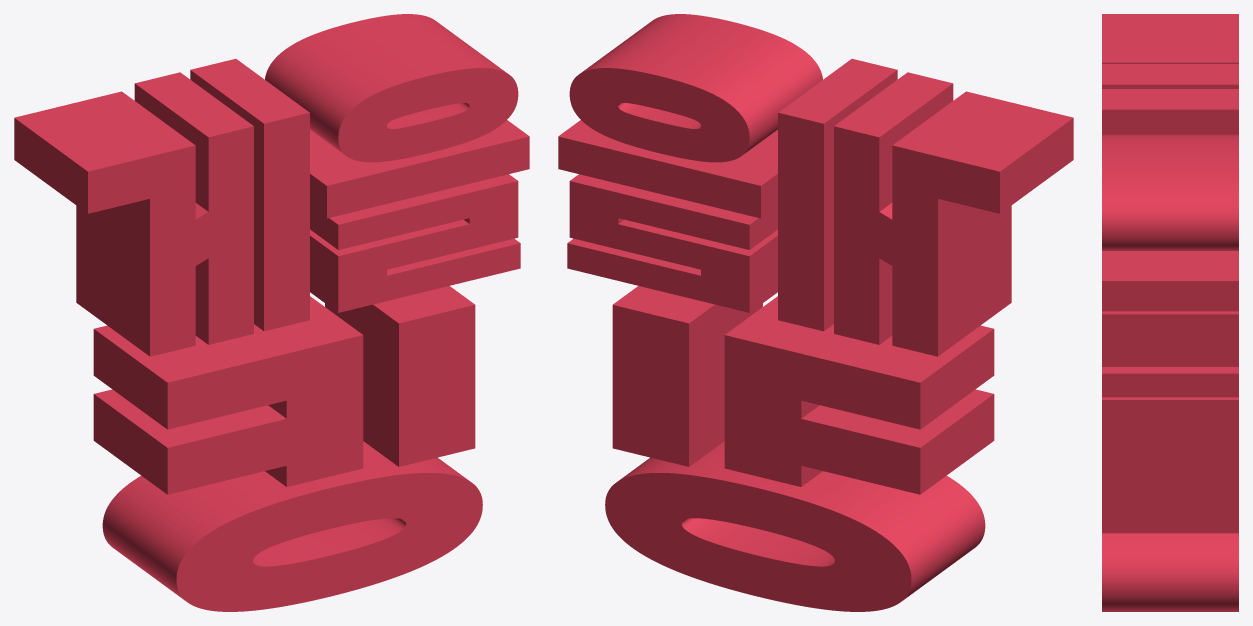
File: Geulking_3DText.fbx
3 views of the same model, side by side, from view 1: azimuth 30°, elevation 25°; view 2: azimuth 150°, elevation 25°; view 3: azimuth 270°, elevation 25° (orthographic). The views are drawn at different scales.
Visible parts, largest first — view 1: Curve.002; view 2: Curve.002; view 3: Curve.002.
Part boxes in pixels (x1=…): Curve.002: x1=14, y1=14, x2=529, y2=611; Curve.002: x1=558, y1=14, x2=1073, y2=611; Curve.002: x1=1102, y1=14, x2=1238, y2=611.
Bounding box in the file's own units: 936 × 271 × 1005.
